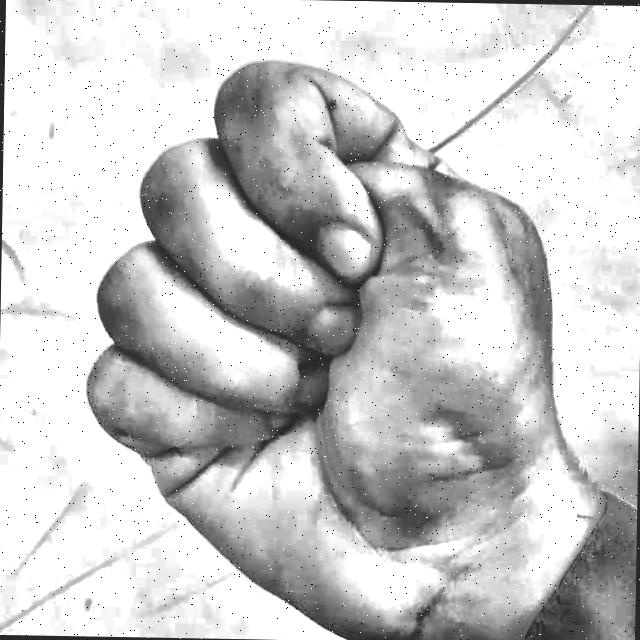To: (65, 46, 606, 640)
